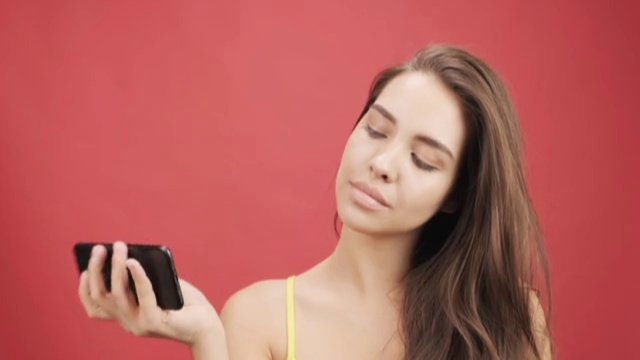phone: (70, 236, 187, 312)
